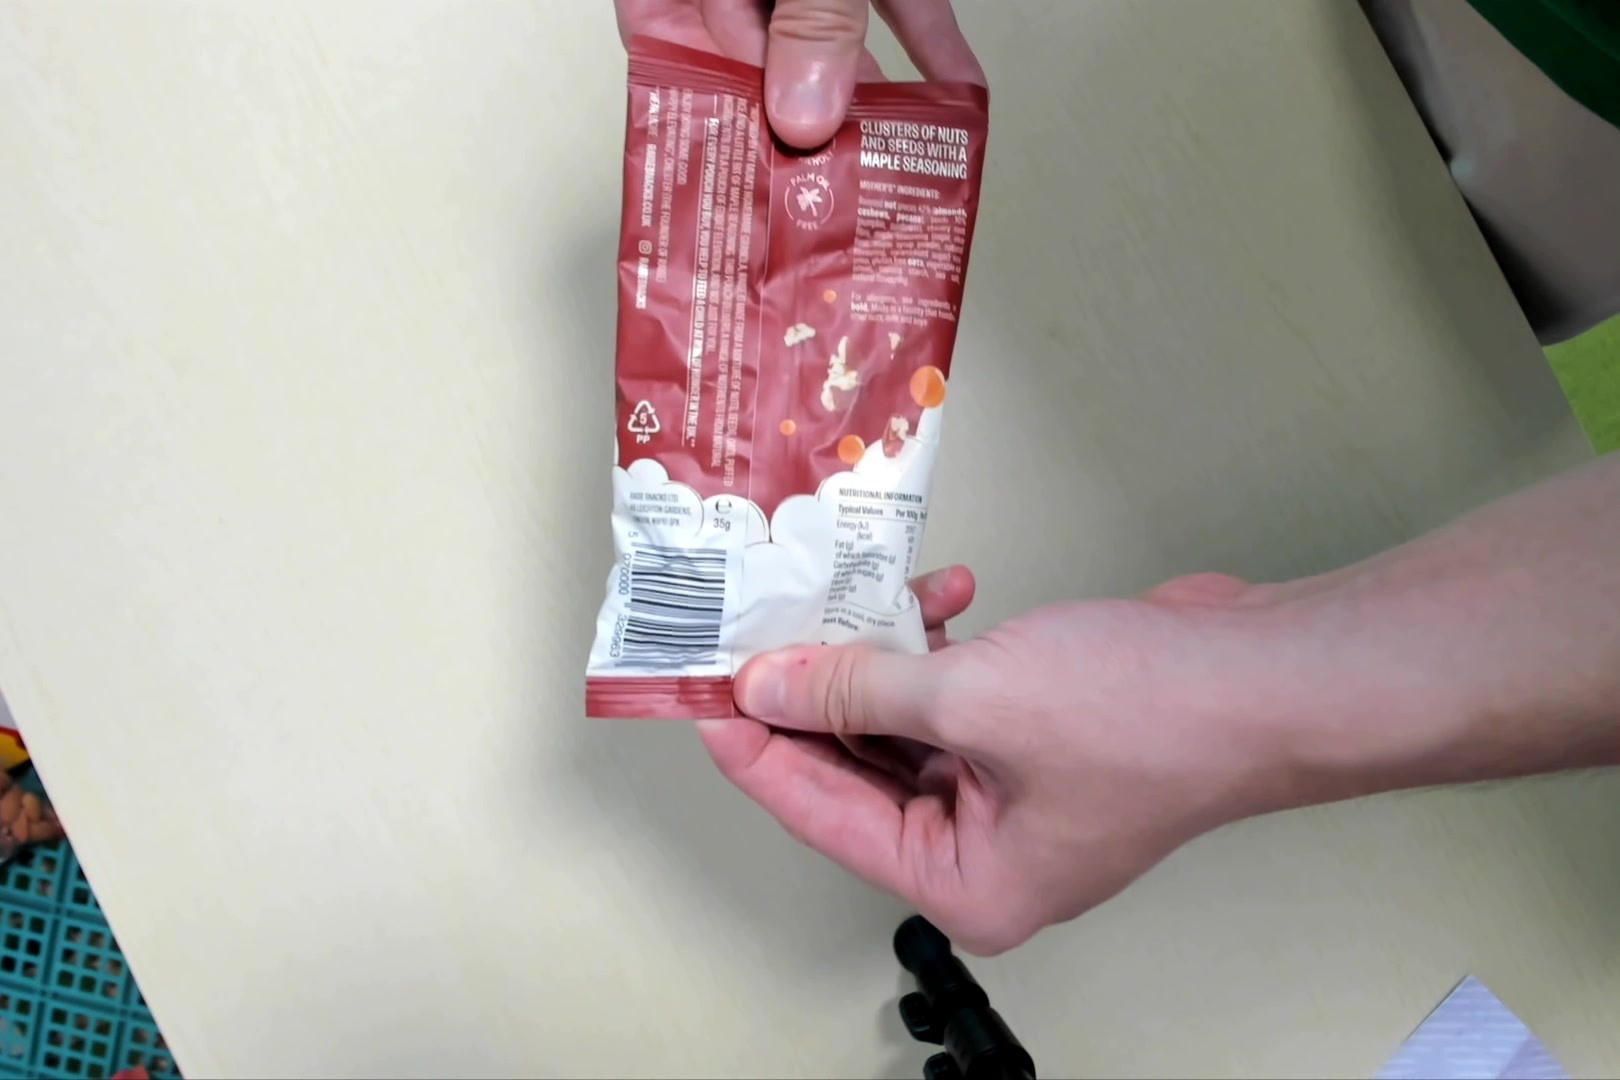Nuts_0-99g_NonHalal_NonHealthy: (577, 84, 987, 721)
